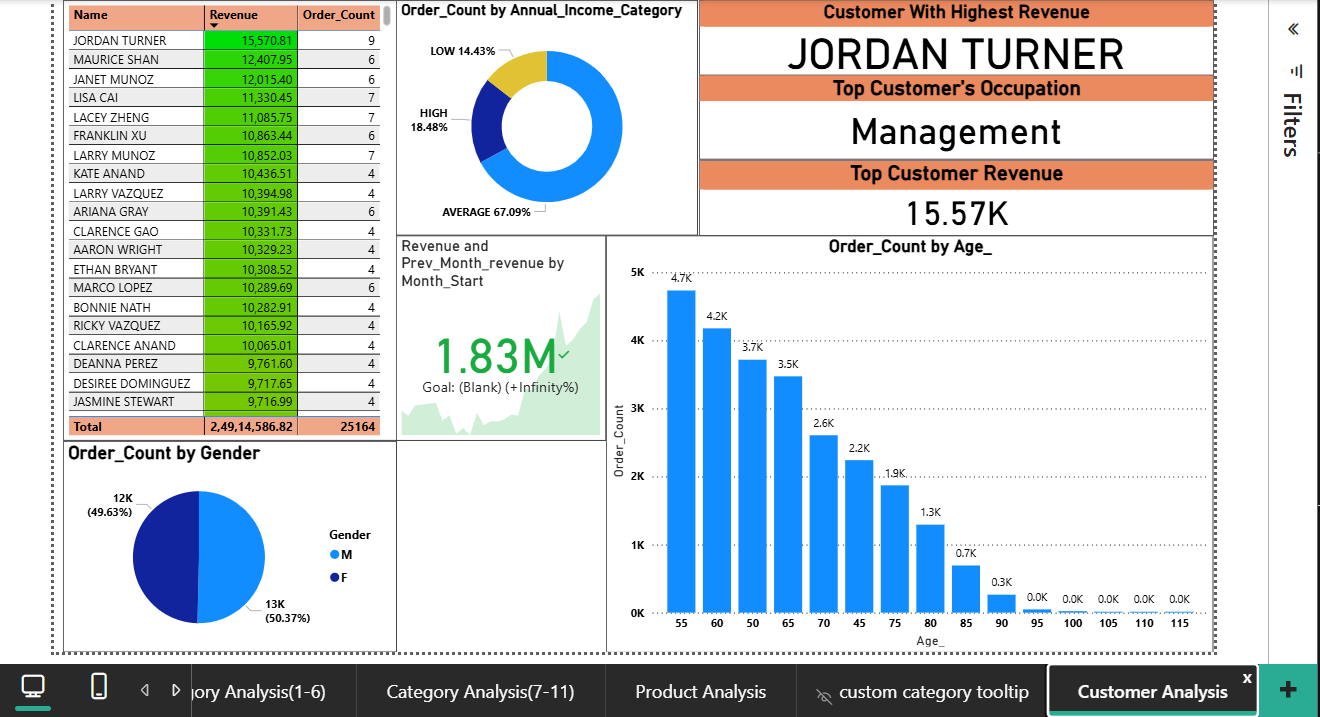

The page's visual inventory and layout, read from the dashboard file:
{"tool":"powerbi","page":{"name":"Customer Analysis","canvas":[1280,720],"ordinal":5},"visuals":[{"type":"tableEx","fields":{"Values":["Customers.Name","Sales.Revenue","Sales.Order_Count"]},"box":[10,0,368.3,486.7],"z":0},{"type":"pieChart","fields":{"Category":["Customers.Gender"],"Y":["Sales.Order_Count"]},"box":[10,486.7,368.3,233.3],"z":1000},{"type":"donutChart","fields":{"Category":["Customers.Annual_Income_Category"],"Y":["Sales.Order_Count"]},"box":[378.3,0,333.3,260],"z":2000},{"type":"card","title":"Customer With Highest Revenue","fields":{"Values":["Customers.Name"]},"box":[711.7,0,568.3,83.3],"z":3000},{"type":"card","title":"Top Customer''s Occupation","fields":{"Values":["Customers.Occupation"]},"box":[711.7,83.3,568.3,93.3],"z":4000},{"type":"card","title":"Top Customer Revenue","fields":{"Values":["Sales.Revenue"]},"box":[711.7,176.7,568.3,83.3],"z":5000},{"type":"kpi","fields":{"Goal":["Sales.Prev_Month_revenue"],"TrendLine":["Calendar.Month_Start"],"Indicator":["Sales.Revenue"]},"box":[378.3,260,231.7,226.7],"z":6000},{"type":"clusteredColumnChart","fields":{"Y":["Sales.Order_Count"],"Category":["Customers.Age (bins)"]},"box":[609.6,260.1,670.9,460.5],"z":7000}]}

Visuals, with their boxes on the page's 1280x720 design canvas (x1, y1, x2, y2). These are canvas units, not pixel positions in the 1320x717 screenshot, which may show the page scaled, cropped or inside an application window:
tableEx - Customers.Name x Sales.Revenue: 10/0/378/487
pieChart - Customers.Gender x Sales.Order_Count: 10/487/378/720
donutChart - Customers.Annual_Income_Category x Sales.Order_Count: 378/0/712/260
"Customer With Highest Revenue" card: 712/0/1280/83
"Top Customer''s Occupation" card: 712/83/1280/177
"Top Customer Revenue" card: 712/177/1280/260
kpi - Sales.Prev_Month_revenue x Calendar.Month_Start: 378/260/610/487
clusteredColumnChart - Sales.Order_Count x Customers.Age (bins): 610/260/1280/721
